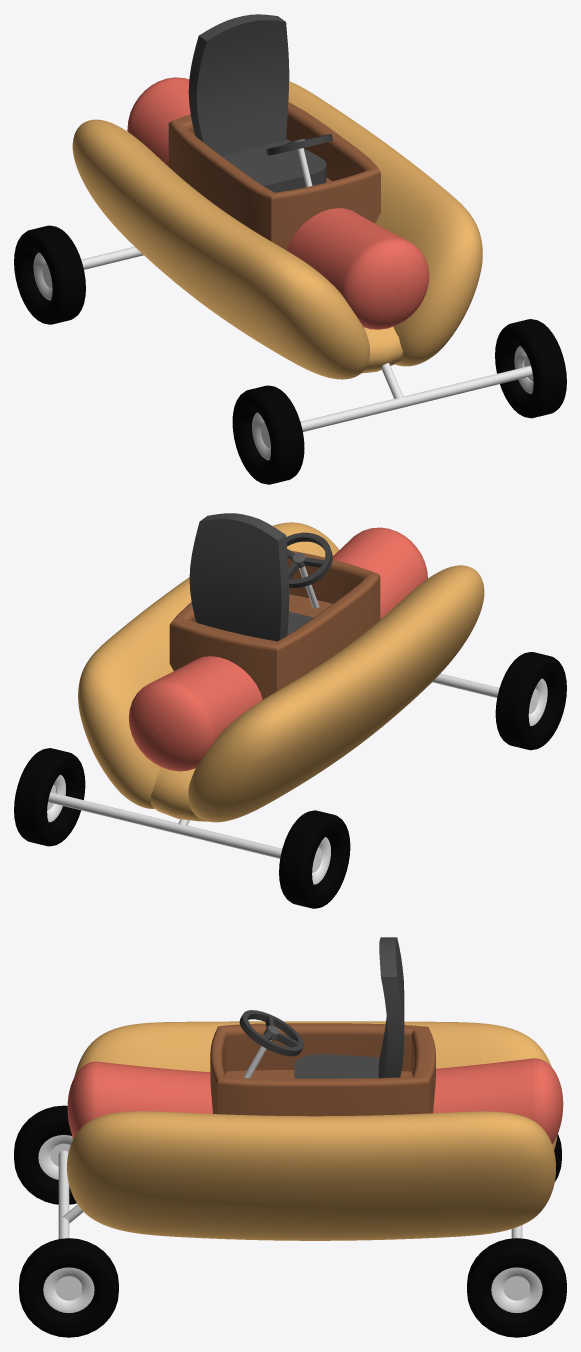
Rendered from GLIZZYCART (1).fbx.
3 renders of one model, top to bottom at view 1: azimuth 30°, elevation 25°; view 2: azimuth 150°, elevation 25°; view 3: azimuth 270°, elevation 25°, orthographic. The views are drawn at different scales.
Parts seen in each view (by area): view 1: Cube, Cylinder, Cube.003, Cube.001, WheelRB, WheelRF, WheelLF, Cube.002, Cylinder.007, Cylinder.013, Cylinder.015, Cylinder.006; view 2: Cube, Cylinder, Cube.003, Cube.001, WheelRB, WheelRF, WheelLB, Cylinder.013, Cylinder.002, Cylinder.007, Cylinder.006, Cylinder.015; view 3: Cube, Cube.003, Cylinder, WheelLF, WheelLB, WheelRF, Cube.001, Cube.002, Cylinder.009, Cylinder.012, Cylinder.002, Cylinder.007 (+1 smaller).
Part boxes in pixels (x1,y1,x2,y2): Cube: (72,81,482,379); Cylinder: (127,77,429,329); Cube.003: (168,102,380,250); Cube.001: (188,14,289,156); WheelRB: (14,225,85,324); WheelRF: (232,385,304,484); WheelLF: (495,319,566,418); Cube.002: (222,139,326,192); Cylinder.007: (300,365,532,431); Cylinder.013: (81,246,143,269); Cylinder.015: (33,252,52,300); Cylinder.006: (252,412,270,460); Cube: (78,522,484,822); Cylinder: (128,527,427,771); Cube.003: (169,550,380,699); Cube.001: (189,513,289,641); WheelRB: (279,810,350,908); WheelRF: (495,652,566,750); WheelLB: (14,748,85,846); Cylinder.013: (48,792,282,858); Cylinder.002: (286,532,332,587); Cylinder.007: (432,673,499,697); Cylinder.006: (528,678,547,726); Cylinder.015: (312,837,330,884); Cube: (67,1021,557,1240); Cube.003: (210,1023,435,1116); Cylinder: (67,1058,563,1144); WheelLF: (19,1238,118,1337); WheelLB: (467,1238,566,1337); WheelRF: (14,1105,76,1204); Cube.001: (378,937,404,1078); Cube.002: (294,1054,379,1078); Cylinder.009: (43,1267,94,1312); Cylinder.012: (491,1267,542,1312); Cylinder.002: (239,1010,304,1056); Cylinder.007: (58,1150,69,1238).
Size of the model in its own units: 497 by 505 by 792.
